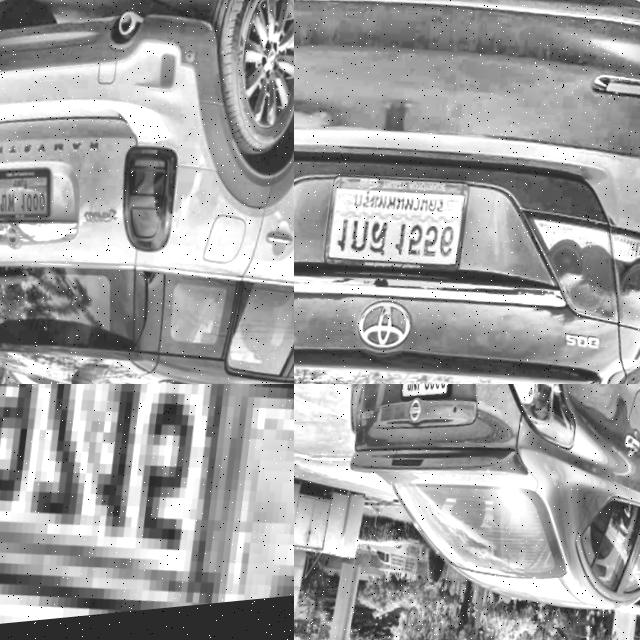license-plate: (0, 384, 294, 640), (317, 171, 469, 292), (0, 166, 55, 229), (383, 384, 466, 419)
